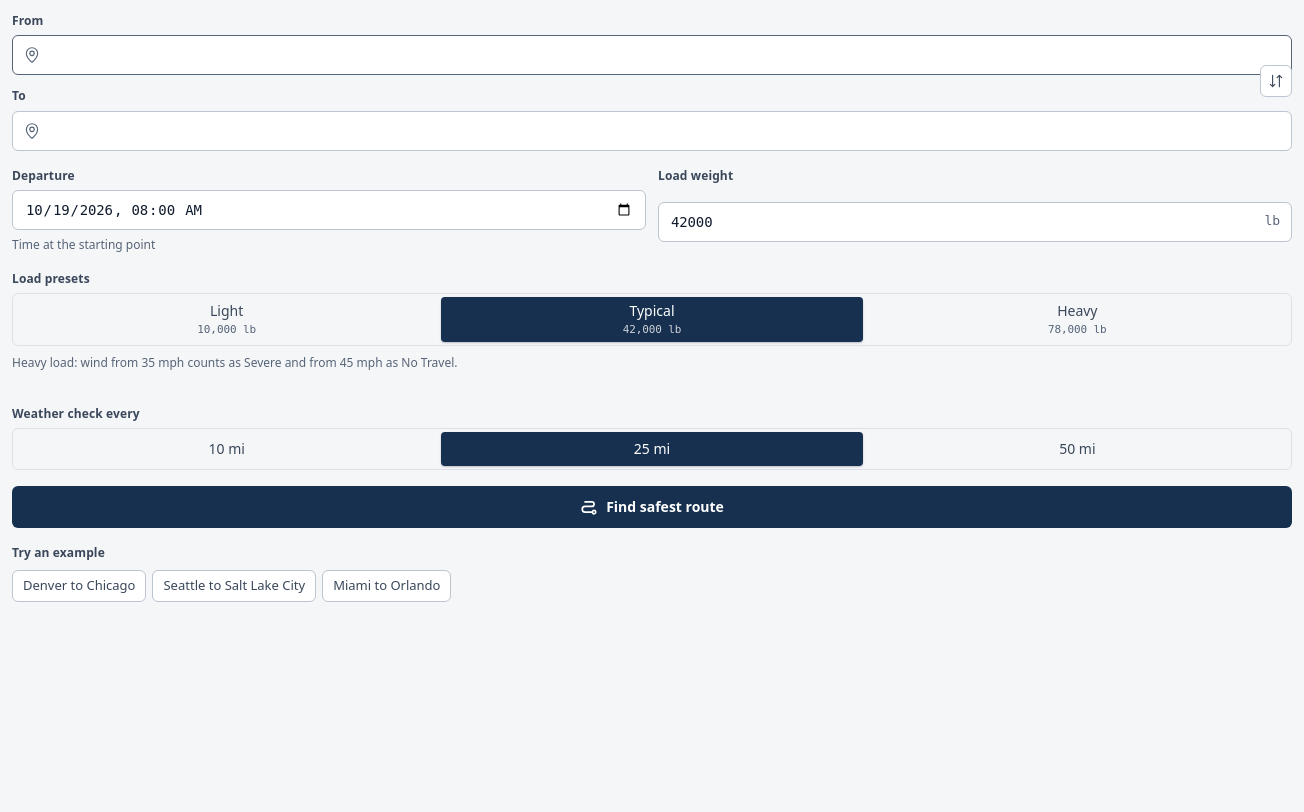
Test: TripForm › rejects an out of range load with a message next to the field
Click the button "Denver to Chicago": click(79, 586) [12,570,146,602]
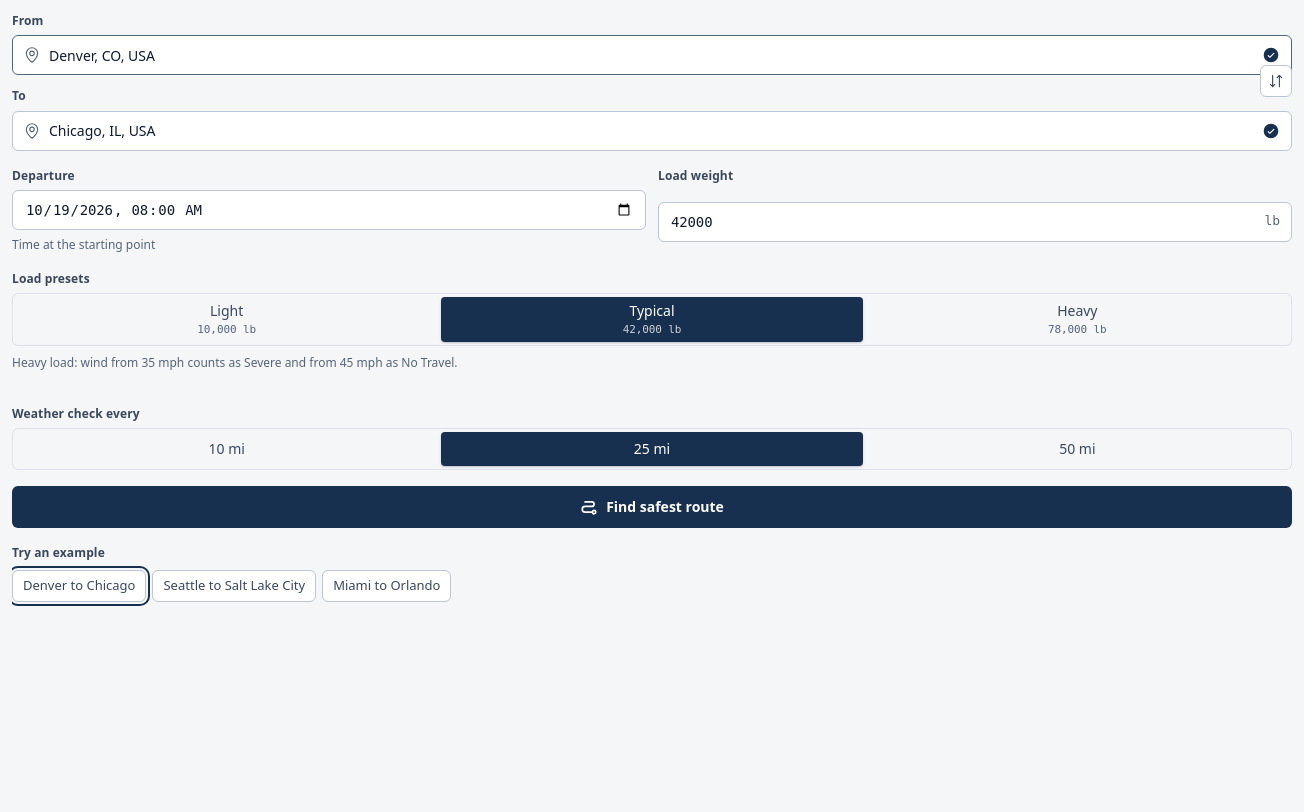
Replace the text in the number field labelled "Load weight" with "250000": (975, 222) [658,202,1292,242]
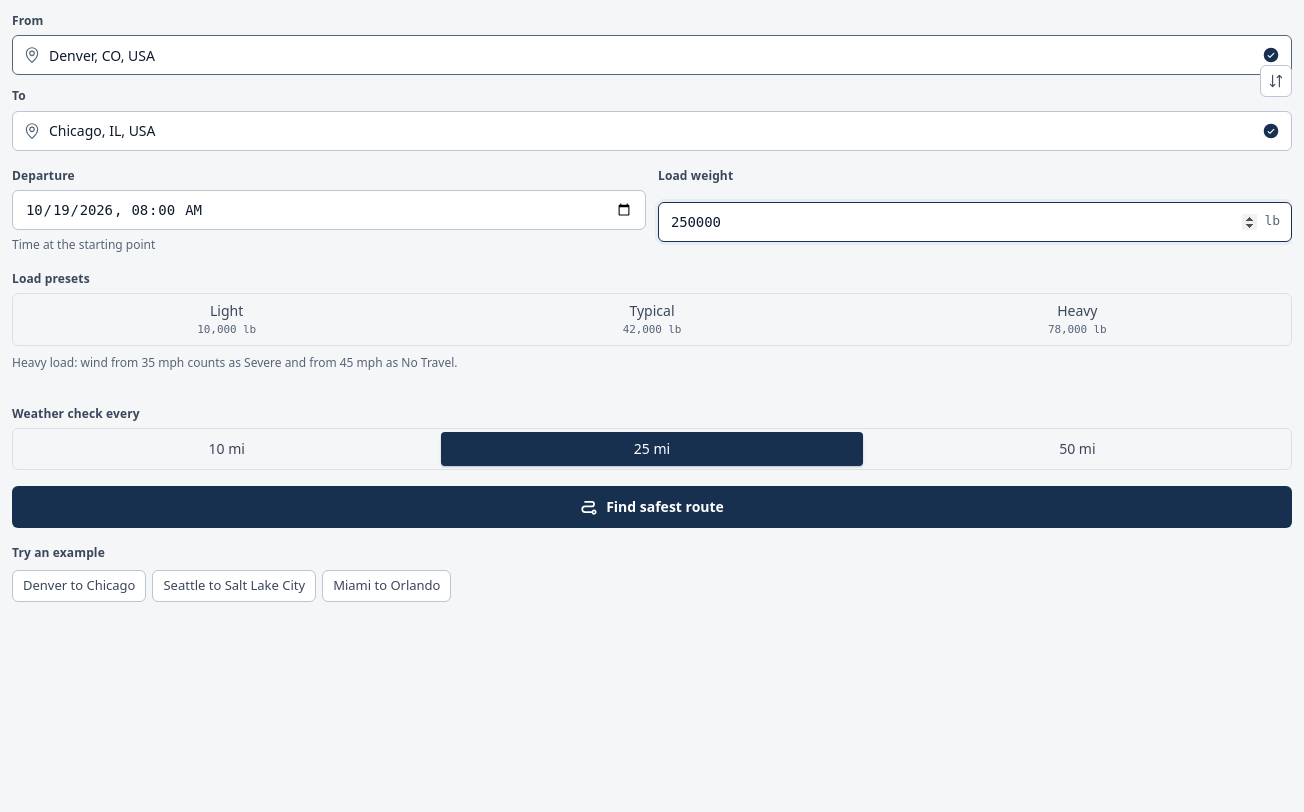
Click the button "Find safest route": click(652, 507) [12,486,1292,528]
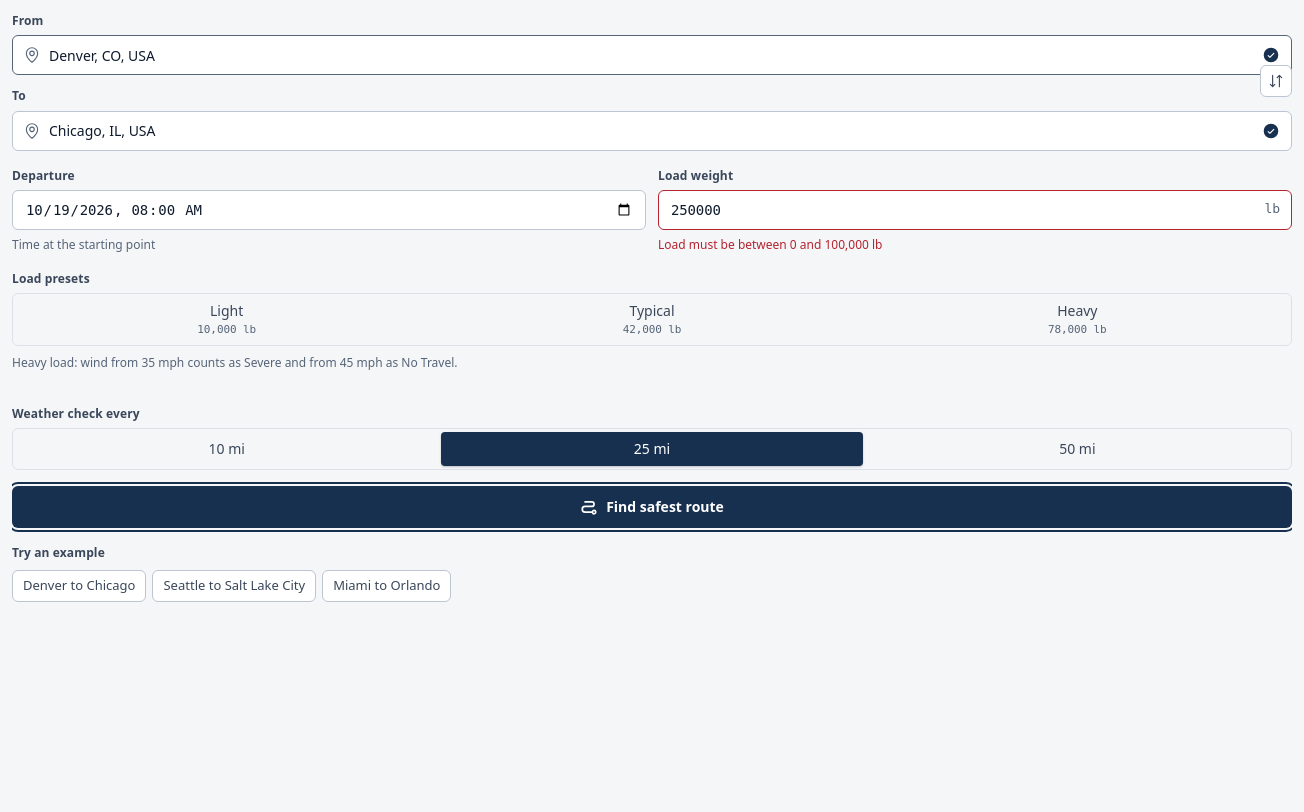
Expected: the message shows "between 0 and 100,000", [658,236,882,253]
